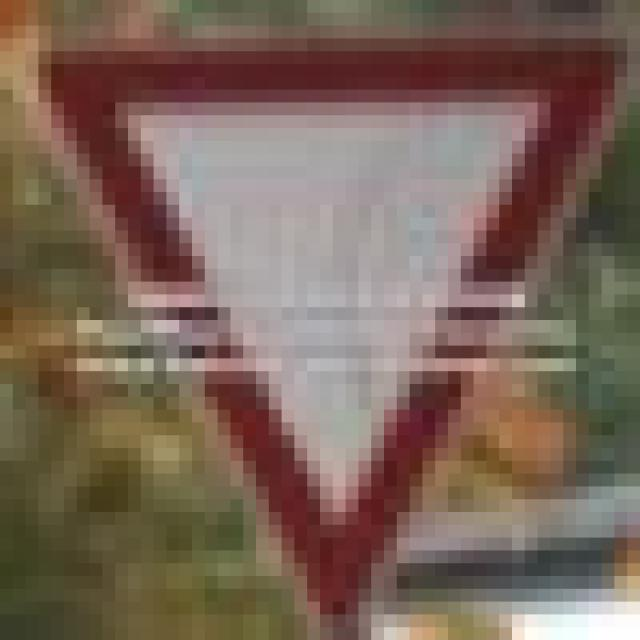gap_in_median: (13, 26, 627, 588)
